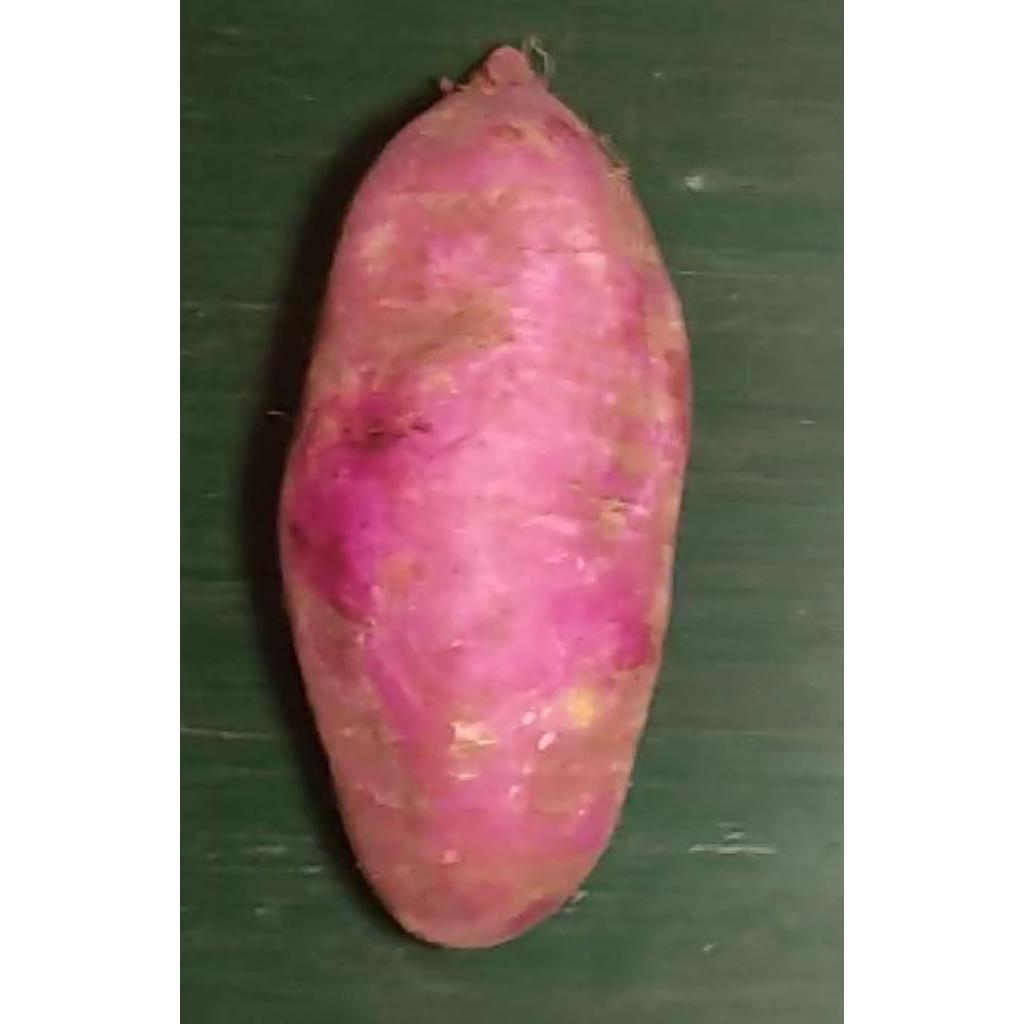Sweet Potato: (279, 43, 694, 951)
